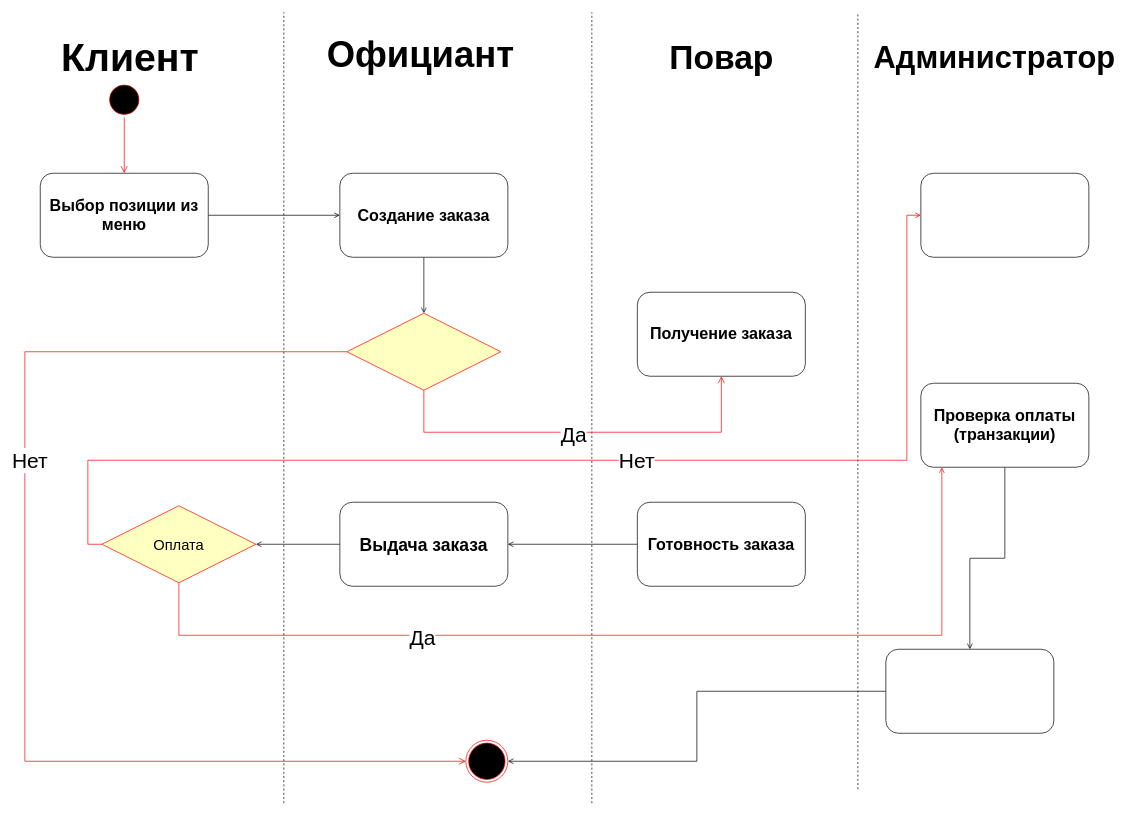
Image size: 1135x816. Some labels were removed from this diagram. Each missing label, with the centre of its shape:
Выдача чека: (969,691)
Вызов полиции: (1004,215)
Наличие блюда: (423,351)
